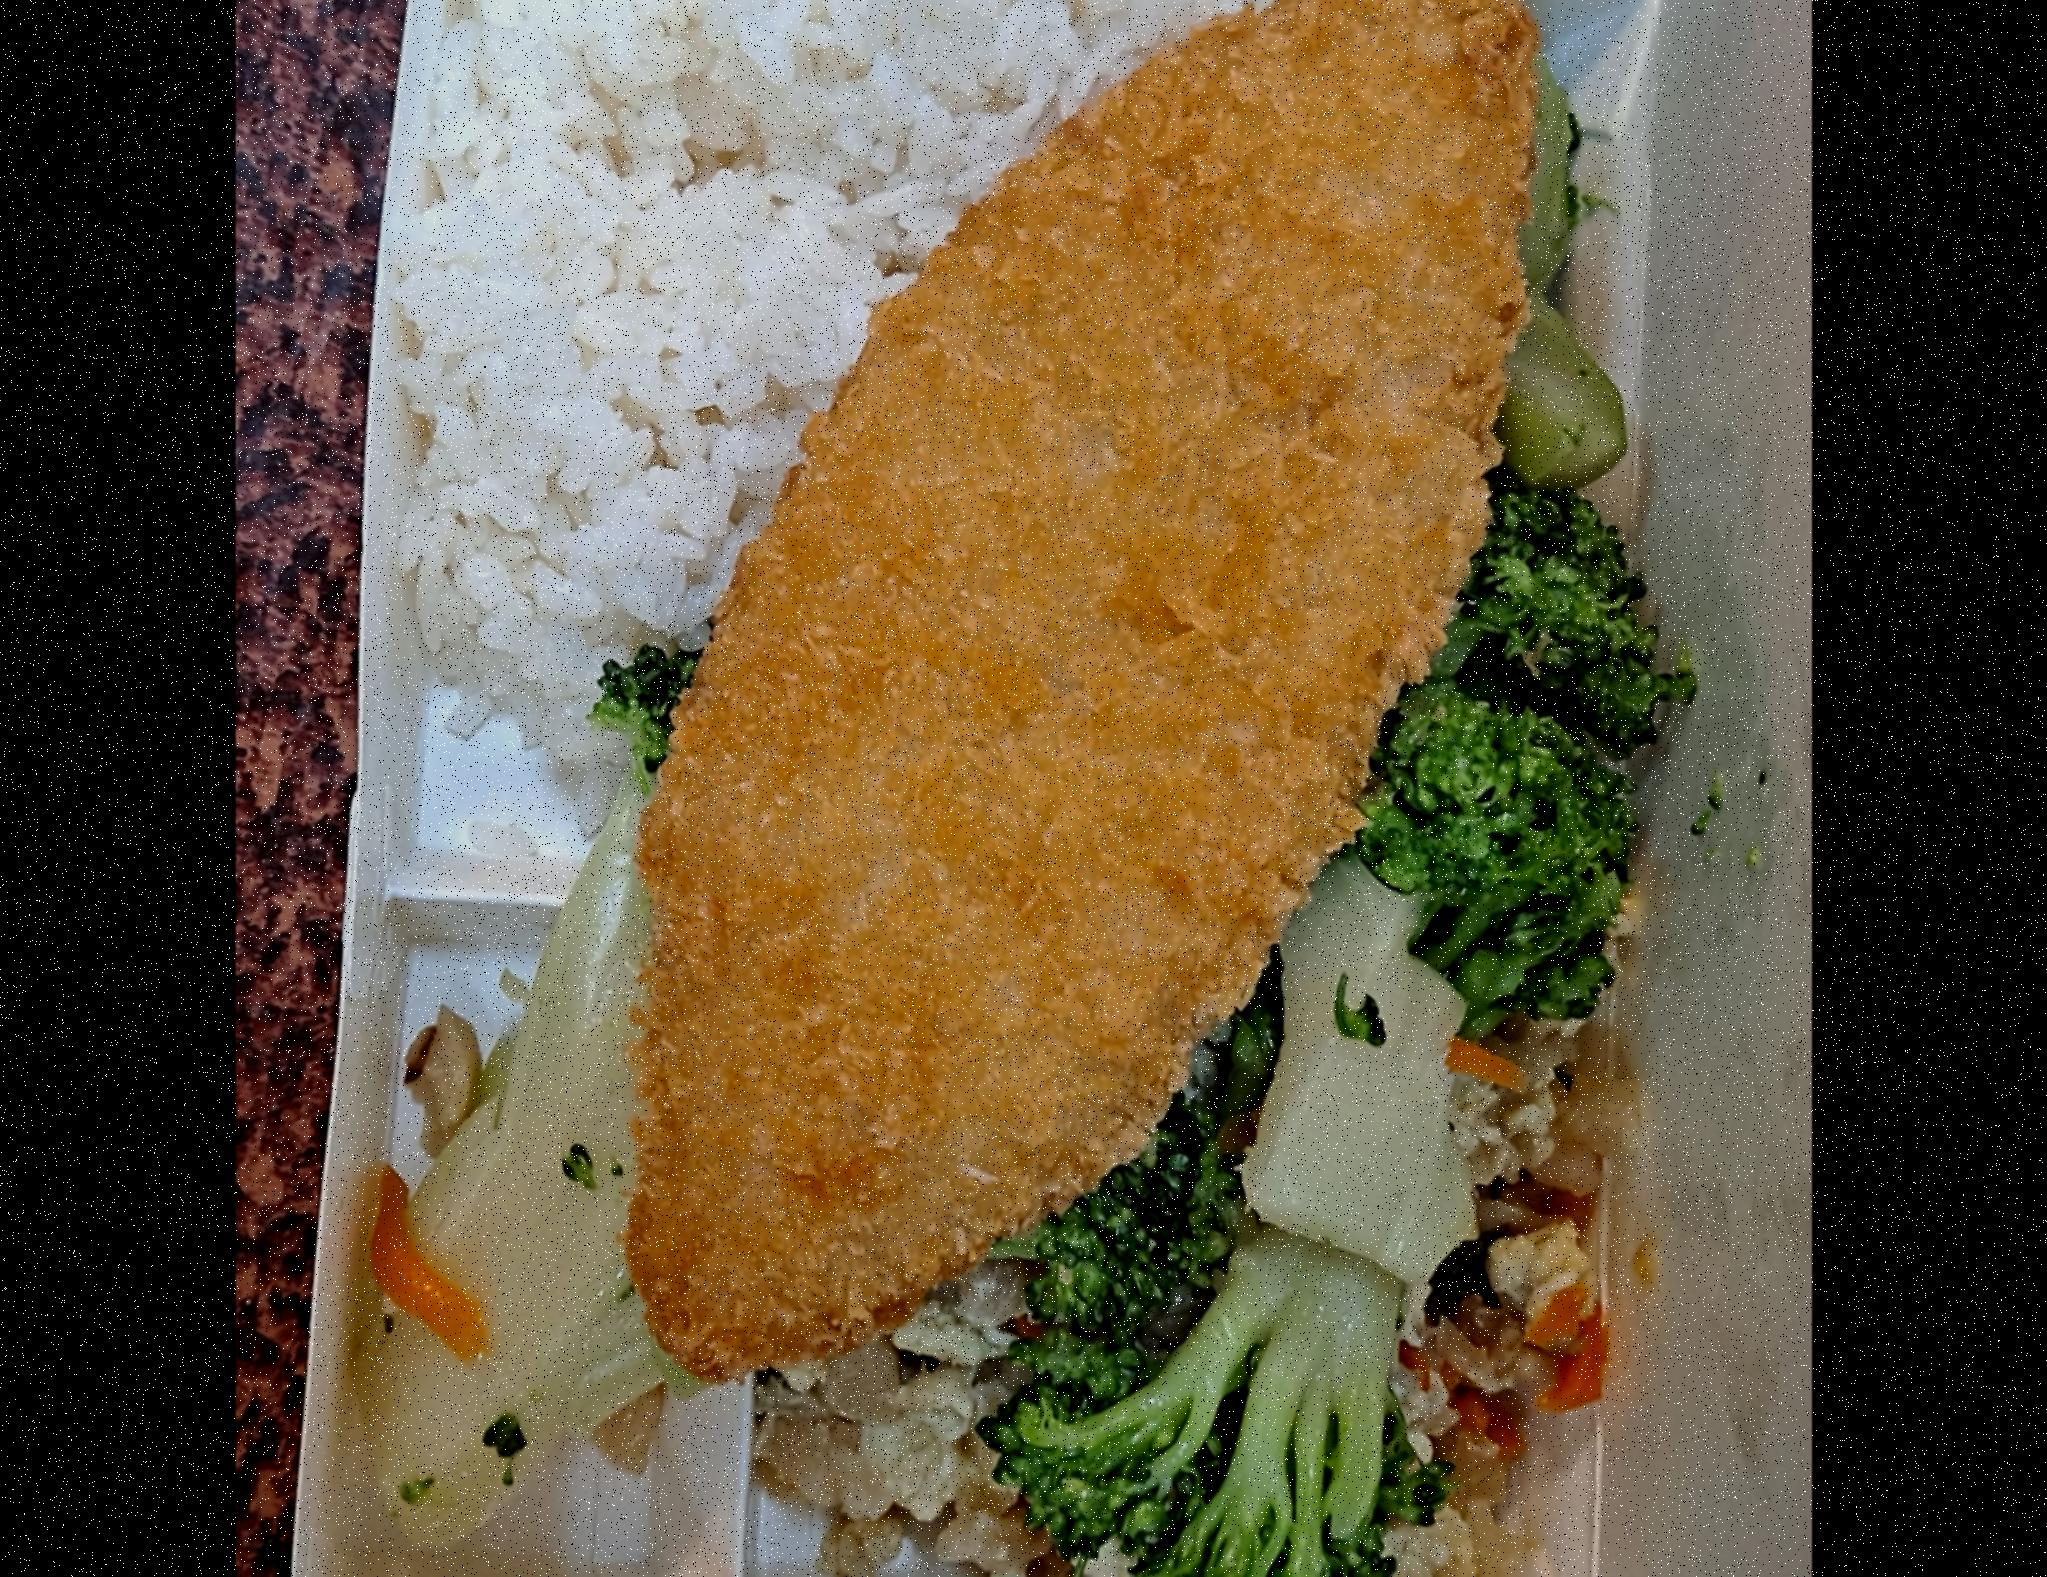big grilled chicken leg: (250, 0, 1703, 1577)
big herbal chicken leg: (406, 0, 1318, 754)
braised fish fillet: (990, 114, 1643, 1577), (366, 810, 654, 1577), (1317, 1025, 1630, 1577)
braised pork: (609, 0, 1557, 1383)
